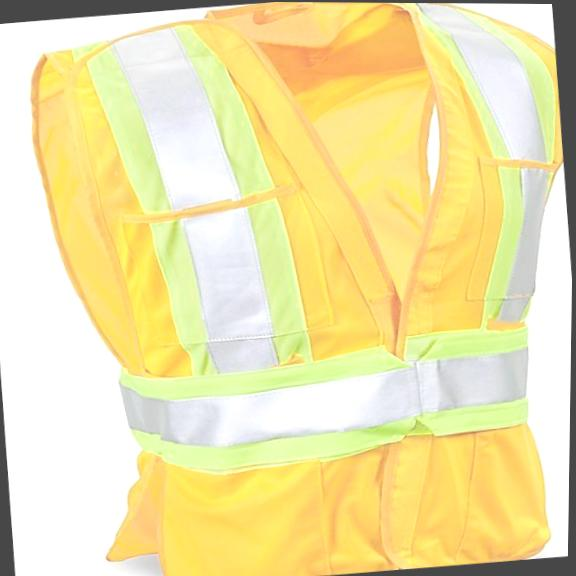safety_vest: (8, 0, 576, 576)
